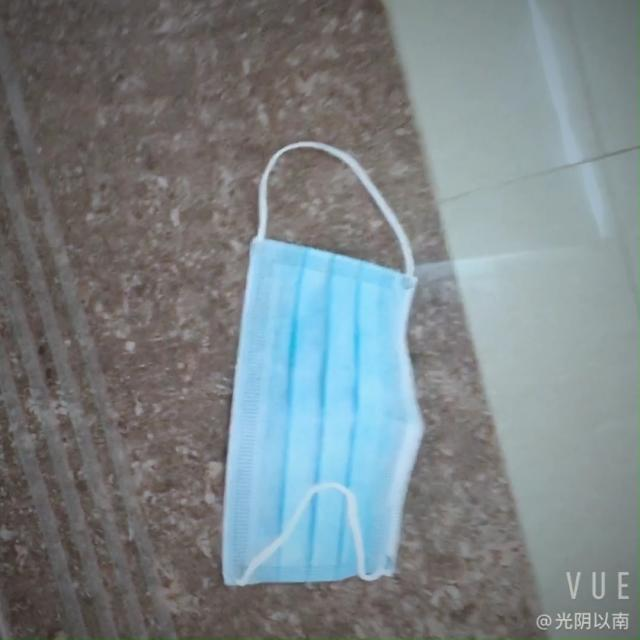non-organic waste: (218, 241, 427, 591)
